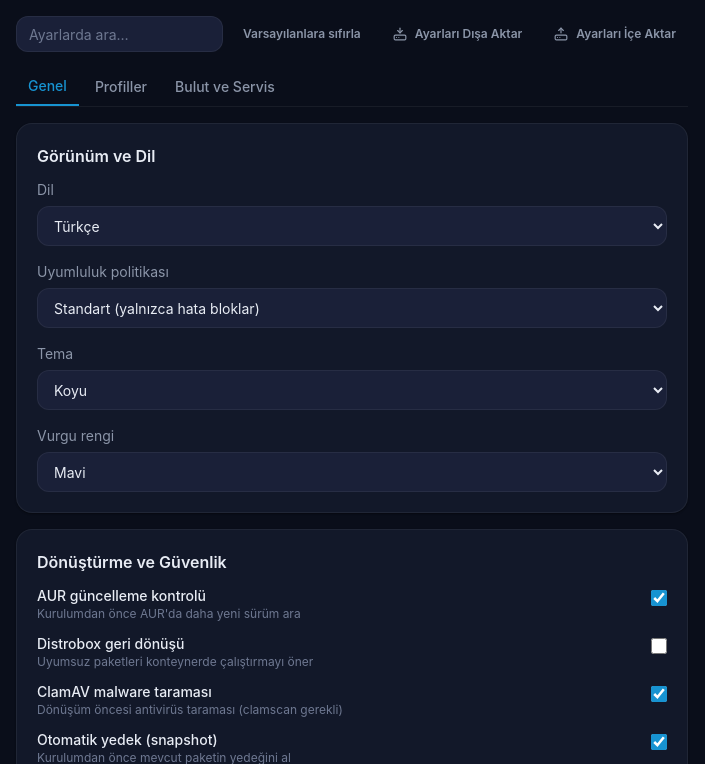
Test case: Settings page › renders D-Bus status card (C1)
The image size is (705, 764).
Click the button "Bulut ve Servis" at (225, 87), box [163,68,287,106]
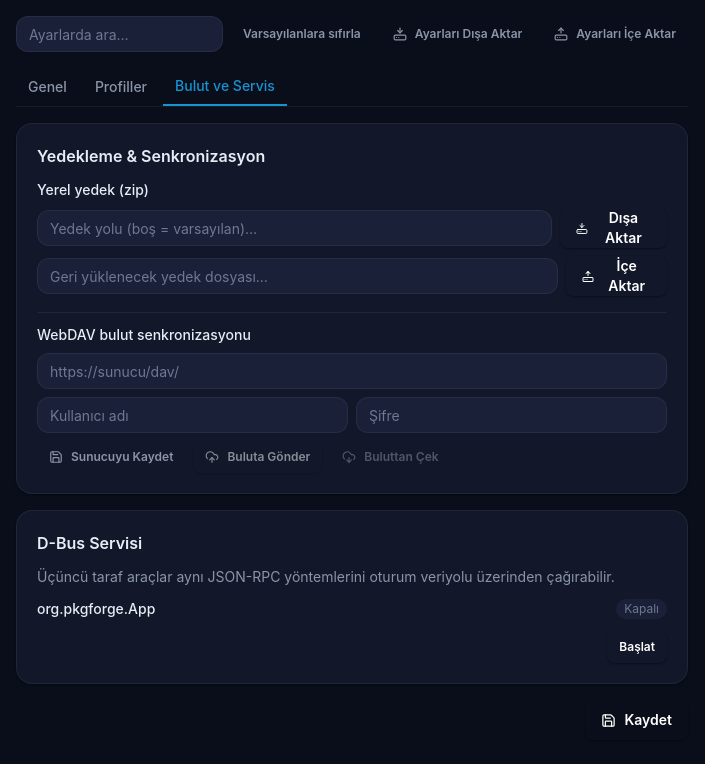
Expected: the heading "D-Bus Servisi" is shown, [37,533,142,553]
Expected: the text "org.pkgforge.App" is shown, [37,599,155,619]
Expected: the text "Kapalı" is shown, [616,599,667,619]
